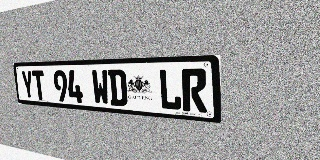4: (66, 70, 83, 103)
9: (53, 70, 69, 102)
D: (108, 69, 128, 107)
L: (158, 69, 182, 111)
R: (182, 68, 207, 113)
T: (32, 70, 46, 100)
W: (91, 70, 110, 105)
Y: (21, 70, 35, 99)
